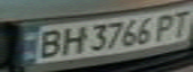3: (87, 20, 109, 52)
6: (133, 15, 160, 45), (121, 17, 142, 47)
7: (106, 19, 127, 49)
B: (30, 27, 66, 60)
H: (57, 25, 87, 56)
P: (151, 11, 181, 42)
T: (169, 7, 193, 38)
